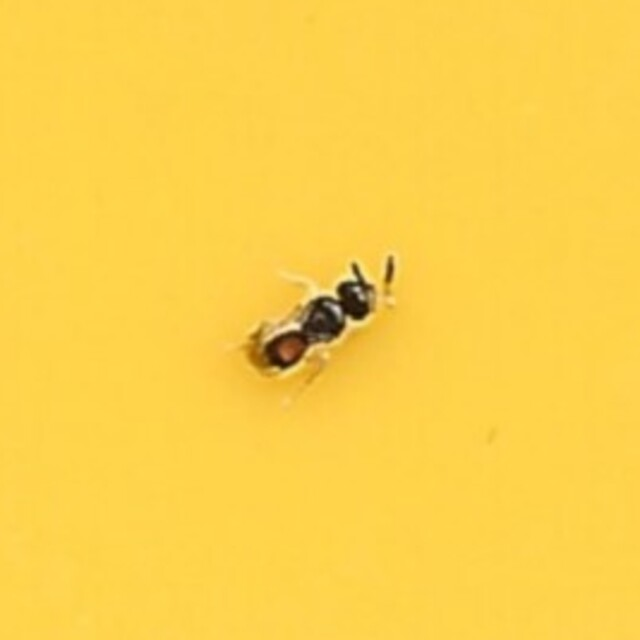Hymenoptera: (240, 256, 400, 384)
